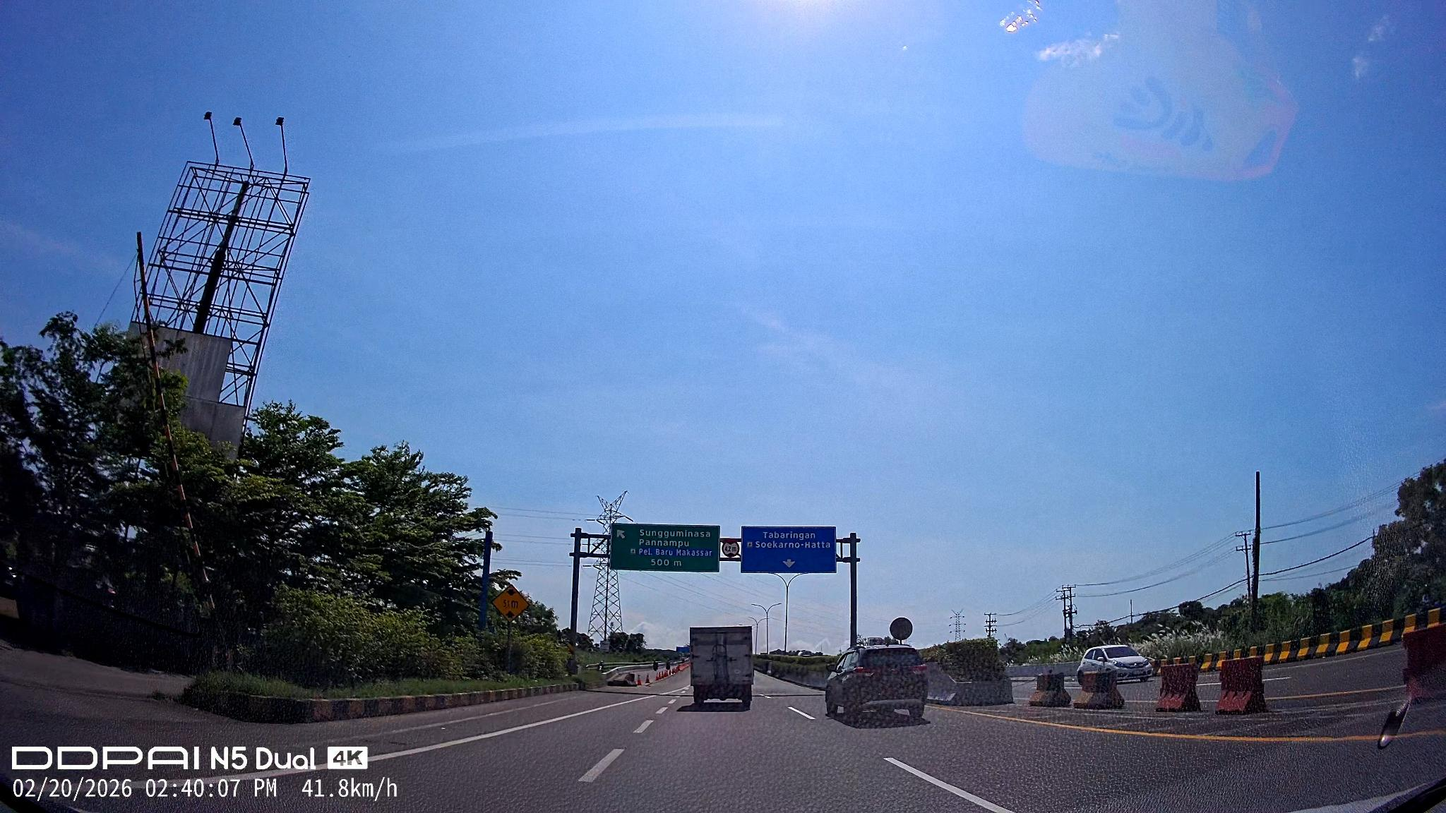rambu_teks: (609, 523, 720, 573), (741, 526, 836, 574)
